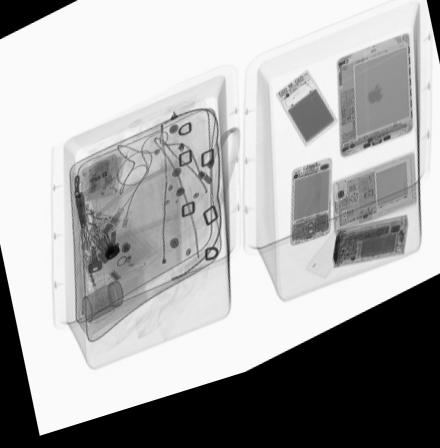Powerbank: (273, 86, 340, 167)
